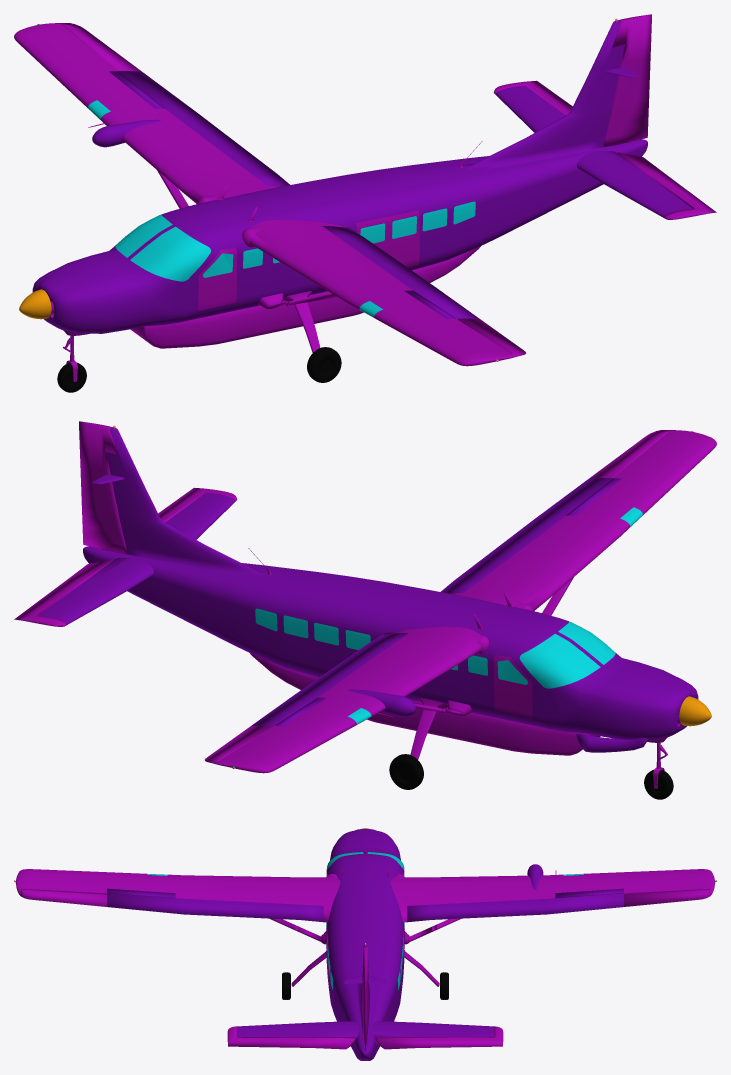
The model's file is grandCaravan.glb.
The picture shows the model from 3 angles, top to bottom: view 1: azimuth 30°, elevation 25°; view 2: azimuth 150°, elevation 25°; view 3: azimuth 270°, elevation 25°; orthographic projection. The views are drawn at different scales.
Parts seen in each view (by area): view 1: fuselage, ailes, tank.003, vitres, ailes2, direction, voletD, voletG, profondeur, porteAG, aileronD, roueG (+9 smaller); view 2: fuselage, ailes, vitres, tank.003, ailes2, direction, voletG, voletD, profondeur, porteAD, aileronG, roueD (+7 smaller); view 3: ailes, fuselage, voletD, voletG, ailes2, profondeur, aileronD, aileronG, barres, trous, direction, vitres (+1 smaller).
Boxes of the visible parts, x1,y1,x2,y2 form: fuselage: (32, 20, 647, 333); ailes: (14, 23, 524, 366); tank.003: (130, 246, 480, 348); vitres: (88, 100, 475, 317); ailes2: (495, 85, 692, 217); direction: (603, 14, 651, 146); voletD: (118, 71, 289, 186); voletG: (322, 226, 479, 319); profondeur: (493, 80, 716, 219); porteAG: (198, 248, 236, 311); aileronD: (62, 24, 140, 71); roueG: (307, 347, 341, 382); fuselage: (83, 427, 698, 740); ailes: (206, 430, 716, 773); vitres: (255, 507, 642, 724); tank.003: (250, 653, 600, 755); ailes2: (38, 492, 235, 624); direction: (79, 421, 127, 553); voletG: (441, 478, 612, 593); voletD: (251, 633, 408, 726); profondeur: (14, 487, 237, 626); porteAD: (494, 655, 532, 718); aileronG: (590, 431, 668, 478); roueD: (389, 754, 423, 789); ailes: (15, 869, 715, 922); fuselage: (326, 829, 404, 1060); voletD: (407, 893, 623, 922); voletG: (107, 893, 323, 922); ailes2: (237, 1021, 493, 1039); profondeur: (227, 1026, 503, 1049); aileronD: (624, 889, 709, 906); aileronG: (21, 889, 106, 906); barres: (270, 918, 460, 944); trous: (21, 889, 709, 1042); direction: (362, 947, 368, 1051); vitres: (147, 852, 583, 990).
Bounding box in the file's own units: 13.56 × 4.93 × 17.06.
